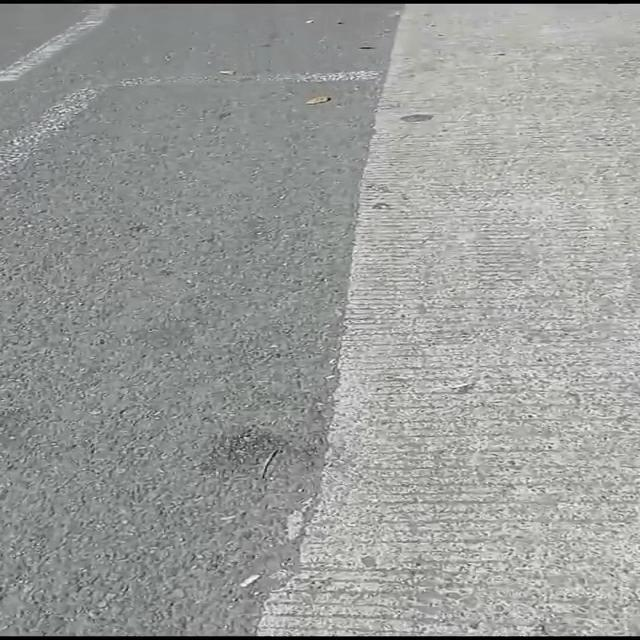Sambungan: (252, 0, 640, 640)
